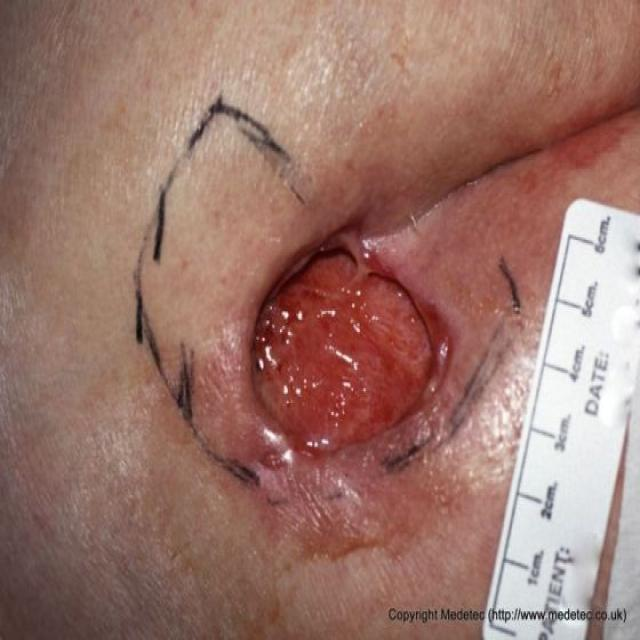stage-3: (254, 236, 446, 455)
